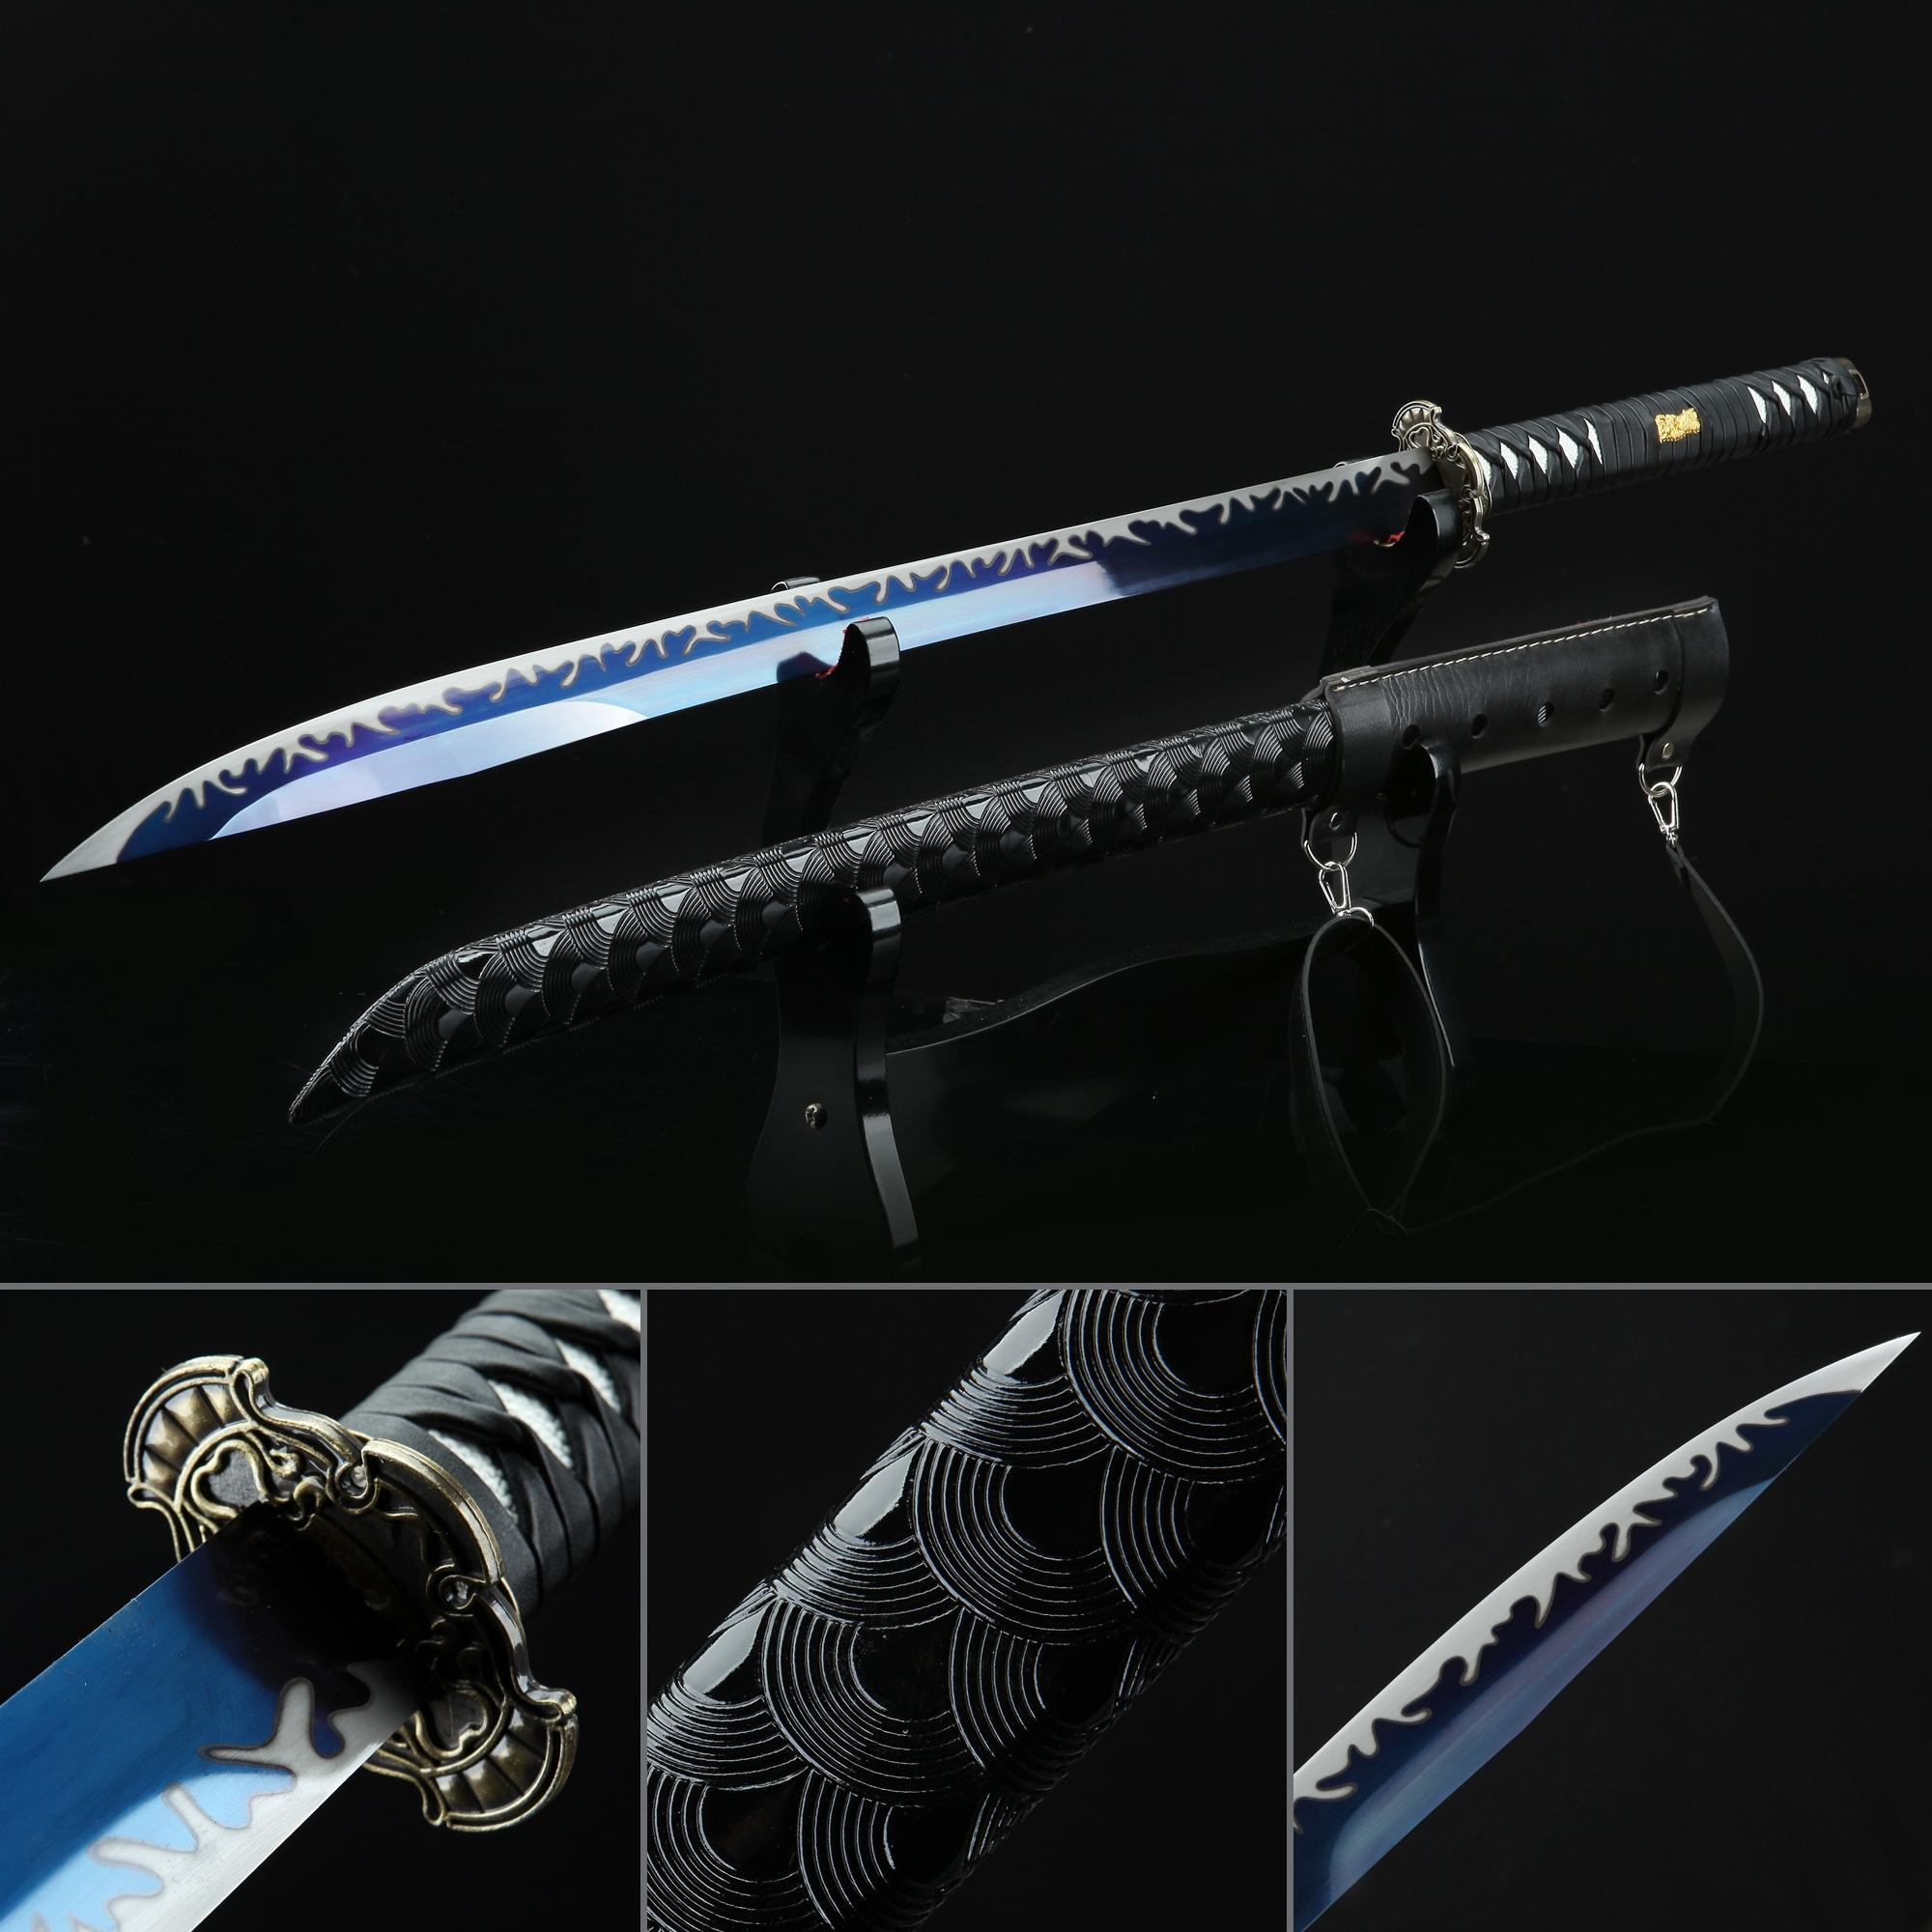espada: (44, 357, 1870, 879), (0, 1288, 640, 1930)
faca: (1293, 1336, 1914, 1927)
